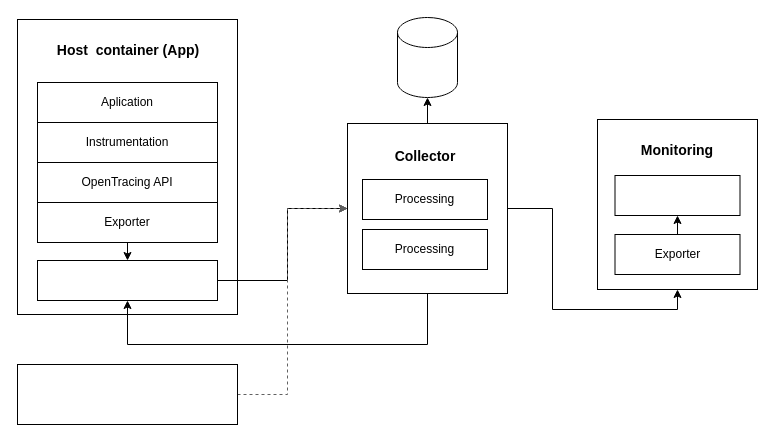
Some shapes in this 780 by 442 pixel diagram are drawn without their labels. Each missing label, with the box of its shape:
Agent (optional): (36, 260, 218, 300)
Host container N ...: (16, 364, 238, 424)
Monitoring UI: (614, 174, 740, 216)
Storage: (396, 16, 458, 98)
